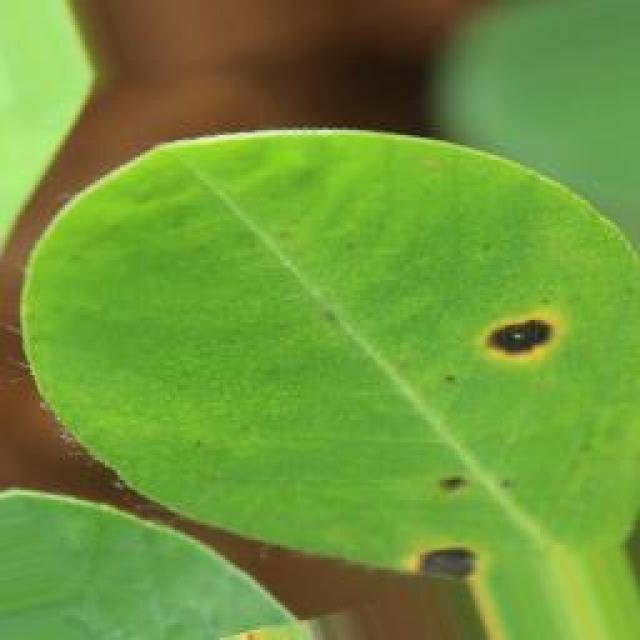Sigatoka: (387, 534, 504, 594), (476, 296, 564, 366), (432, 466, 492, 515)
